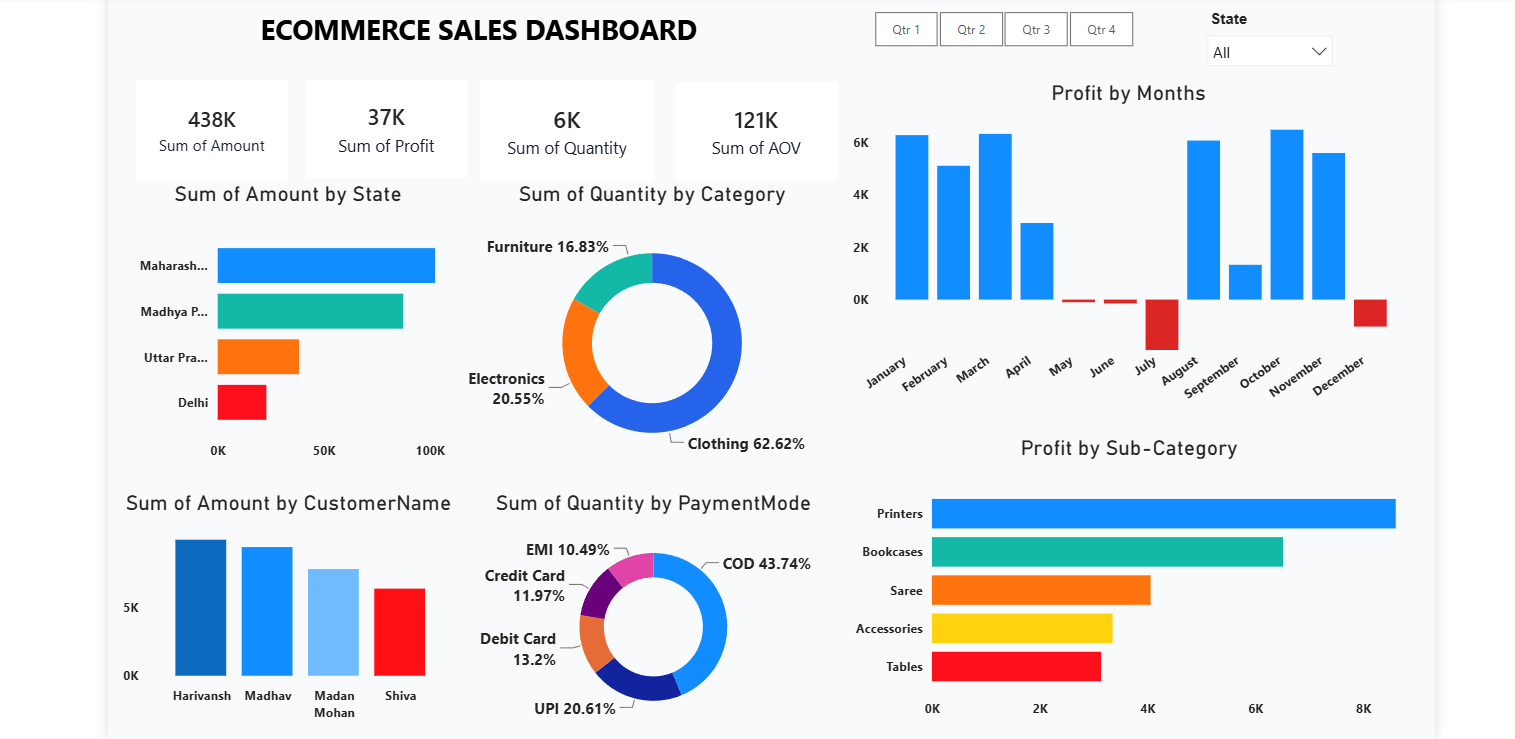

This screenshot's page, from the dashboard's own definition file:
{"tool":"powerbi","page":{"name":"Page 1","canvas":[1280,720],"ordinal":0},"visuals":[{"type":"textbox","box":[12.3,8.2,691.6,57.6],"z":0},{"type":"columnChart","title":"Profit by Months","fields":{"Category":["Orders.Order Date.Variation.Date Hierarchy.Month"],"Y":["Sum(Details.Profit)"]},"box":[714.3,80.9,541.8,328.8],"z":1000},{"type":"barChart","title":"Profit by Sub-Category","fields":{"Y":["Sum(Details.Profit)"],"Category":["Details.Sub-Category"]},"box":[714.9,424,540.7,282.7],"z":2000},{"type":"donutChart","fields":{"Y":["Sum(Details.Quantity)"],"Category":["Details.Category"]},"box":[345.8,178.4,358.1,278.6],"z":3000},{"type":"donutChart","fields":{"Y":["Sum(Details.Quantity)"],"Category":["Details.PaymentMode"]},"box":[347.2,476.2,358.1,230.5],"z":4000},{"type":"cardVisual","fields":{"Data":["Sum(Details.Quantity)"]},"box":[359.5,81,167.4,97.4],"z":5000},{"type":"cardVisual","fields":{"Data":["Sum(Details.Profit)"]},"box":[190.7,81,156.4,94.7],"z":6000},{"type":"cardVisual","fields":{"Data":["Sum(Details.AOV)"]},"box":[547.5,83.7,156.4,94.7],"z":7000},{"type":"barChart","fields":{"Category":["Orders.State"],"Y":["Sum(Details.Amount)"]},"box":[12.3,178.4,323.8,278.6],"z":8000},{"type":"columnChart","fields":{"Category":["Orders.CustomerName"],"Y":["Sum(Details.Amount)"]},"box":[9.6,476.2,329.3,230.5],"z":9000},{"type":"slicer","fields":{"Values":["Orders.Order Date.Variation.Date Hierarchy.Quarter"]},"box":[714.3,8.1,299.2,47.2],"z":10000},{"type":"slicer","fields":{"Values":["Orders.State"]},"box":[1051.2,8.1,141.5,72.8],"z":11000},{"type":"cardVisual","fields":{"Data":["Sum(Details.Amount)"]},"box":[27.7,80.8,146,97.7],"z":11001}]}

Visuals, with their boxes on the page's 1280x720 design canvas (x1, y1, x2, y2). These are canvas units, not pixel positions in the 1515x739 screenshot, which may show the page scaled, cropped or inside an application window:
textbox: {"x1": 12, "y1": 8, "x2": 704, "y2": 66}
"Profit by Months" columnChart: {"x1": 714, "y1": 81, "x2": 1256, "y2": 410}
"Profit by Sub-Category" barChart: {"x1": 715, "y1": 424, "x2": 1256, "y2": 707}
donutChart - Sum(Details.Quantity) x Details.Category: {"x1": 346, "y1": 178, "x2": 704, "y2": 457}
donutChart - Sum(Details.Quantity) x Details.PaymentMode: {"x1": 347, "y1": 476, "x2": 705, "y2": 707}
cardVisual - Sum(Details.Quantity): {"x1": 360, "y1": 81, "x2": 527, "y2": 178}
cardVisual - Sum(Details.Profit): {"x1": 191, "y1": 81, "x2": 347, "y2": 176}
cardVisual - Sum(Details.AOV): {"x1": 548, "y1": 84, "x2": 704, "y2": 178}
barChart - Orders.State x Sum(Details.Amount): {"x1": 12, "y1": 178, "x2": 336, "y2": 457}
columnChart - Orders.CustomerName x Sum(Details.Amount): {"x1": 10, "y1": 476, "x2": 339, "y2": 707}
slicer - Orders.Order Date.Variation.Date Hierarchy.Quarter: {"x1": 714, "y1": 8, "x2": 1014, "y2": 55}
slicer - Orders.State: {"x1": 1051, "y1": 8, "x2": 1193, "y2": 81}
cardVisual - Sum(Details.Amount): {"x1": 28, "y1": 81, "x2": 174, "y2": 178}
